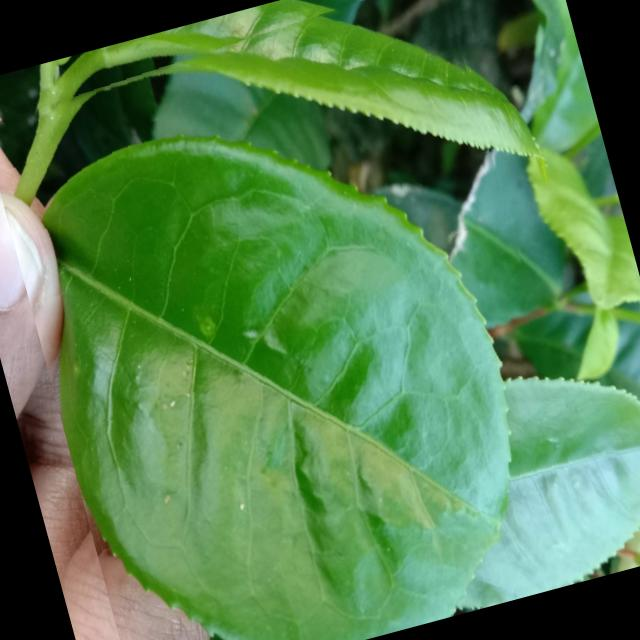Category C 4-7 days: (0, 0, 608, 640)
